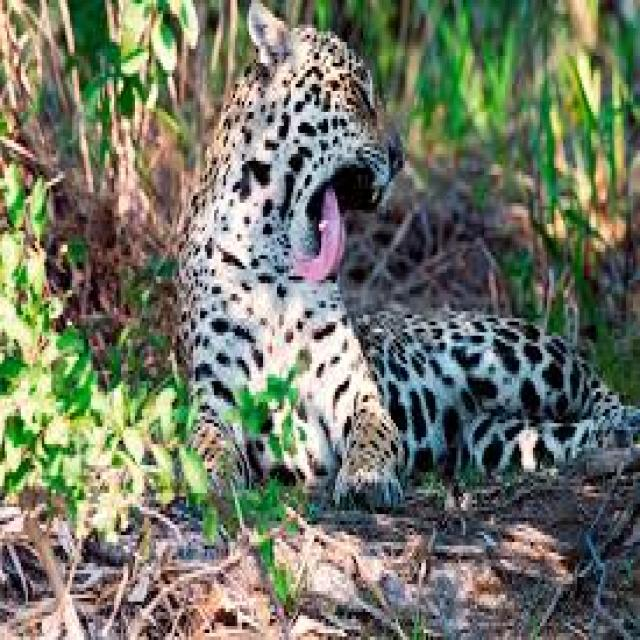Jaguar: (181, 0, 640, 514)
